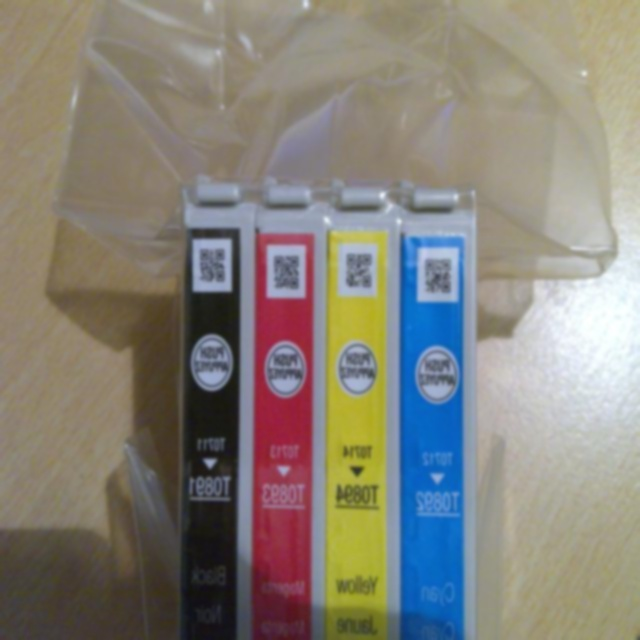qr-code: (346, 254, 372, 287), (426, 259, 451, 292), (275, 256, 299, 288), (201, 249, 225, 281)
